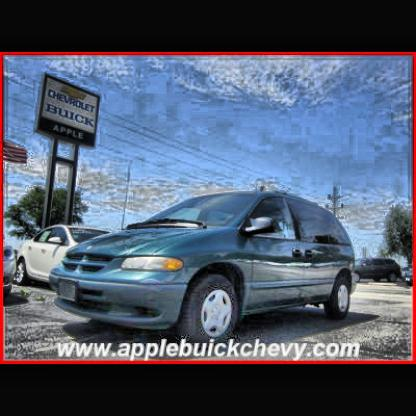Dodge Caravan Minivan 1997: (51, 195, 357, 339)
